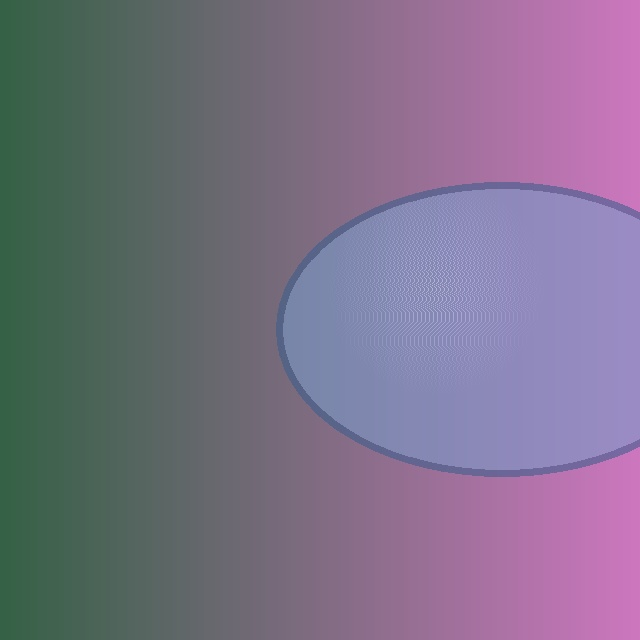lens: (279, 185, 640, 473)
